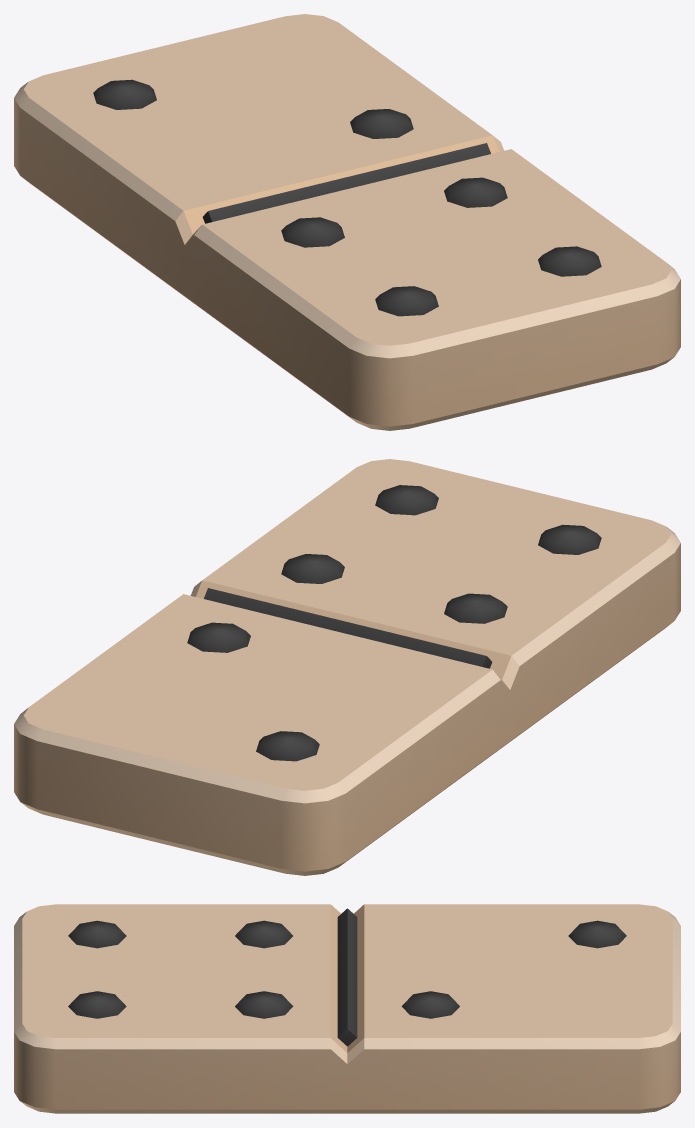
File: domino_tile_2-4.obj
3 views of the same model, one above another, from view 1: azimuth 30°, elevation 25°; view 2: azimuth 150°, elevation 25°; view 3: azimuth 270°, elevation 25° (orthographic). The views are drawn at different scales.
Parts seen in each view (by area): view 1: domino_tile_2-4; view 2: domino_tile_2-4; view 3: domino_tile_2-4.
Part boxes in pixels (box(x1,y1,x2,y2)): domino_tile_2-4: box(14, 14, 680, 430); domino_tile_2-4: box(14, 459, 680, 875); domino_tile_2-4: box(14, 904, 680, 1113).
Bounding box in the file's own units: 1 × 0.2767 × 2.
1 material, 1 textured.
